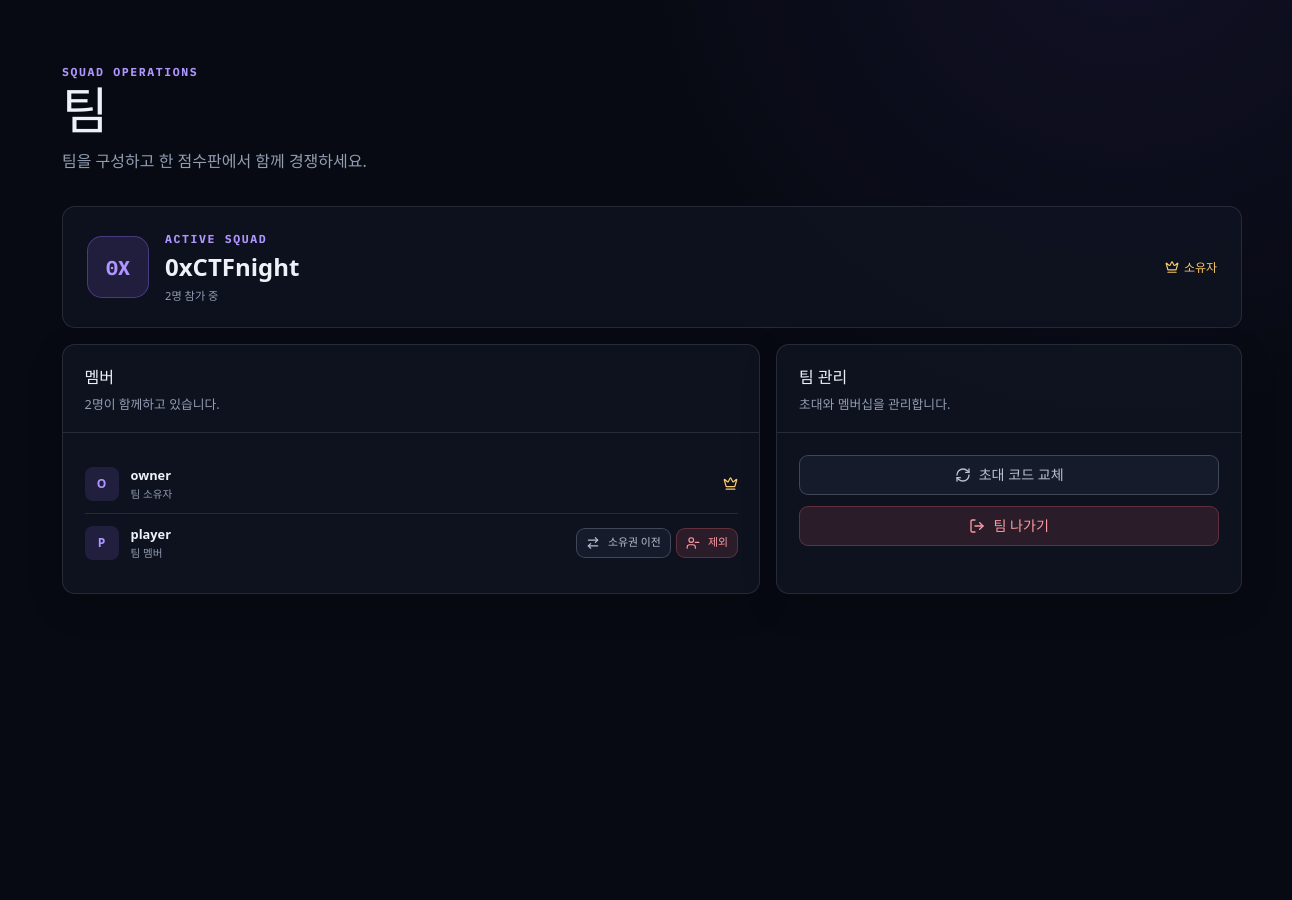
team member management › reveals the atomically rotated invite after a member is removed
Click the button with aria-label "player 팀에서 제외".
click(707, 542)  # box [676,528,738,558]
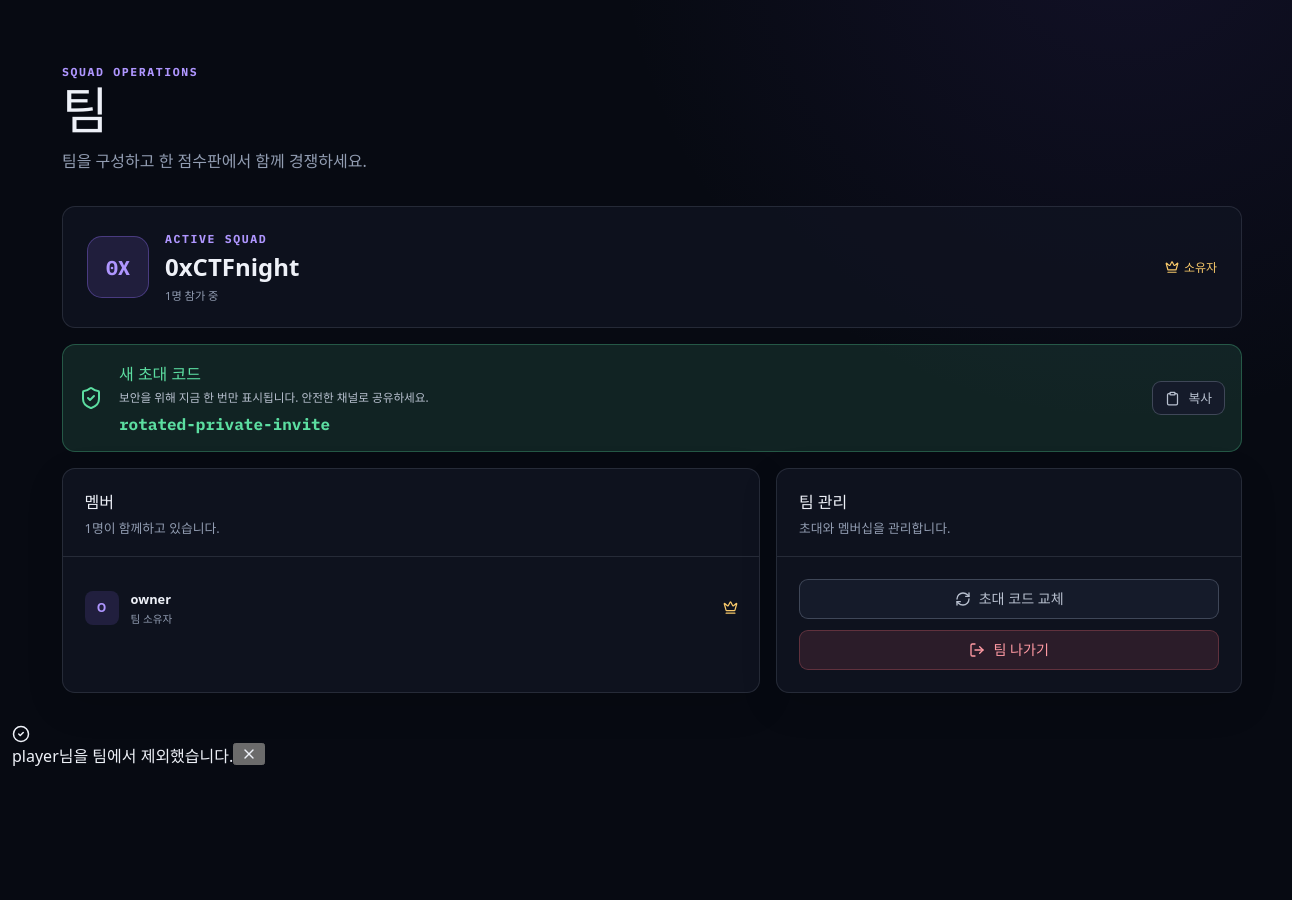
Check: the text "rotated-private-invite" is shown, box [119,414,330,434]
Check: the text "보안을 위해 지금 한 번만 표시됩니다. 안전한 채널로 공유하세요." is shown, box [119,390,429,406]
